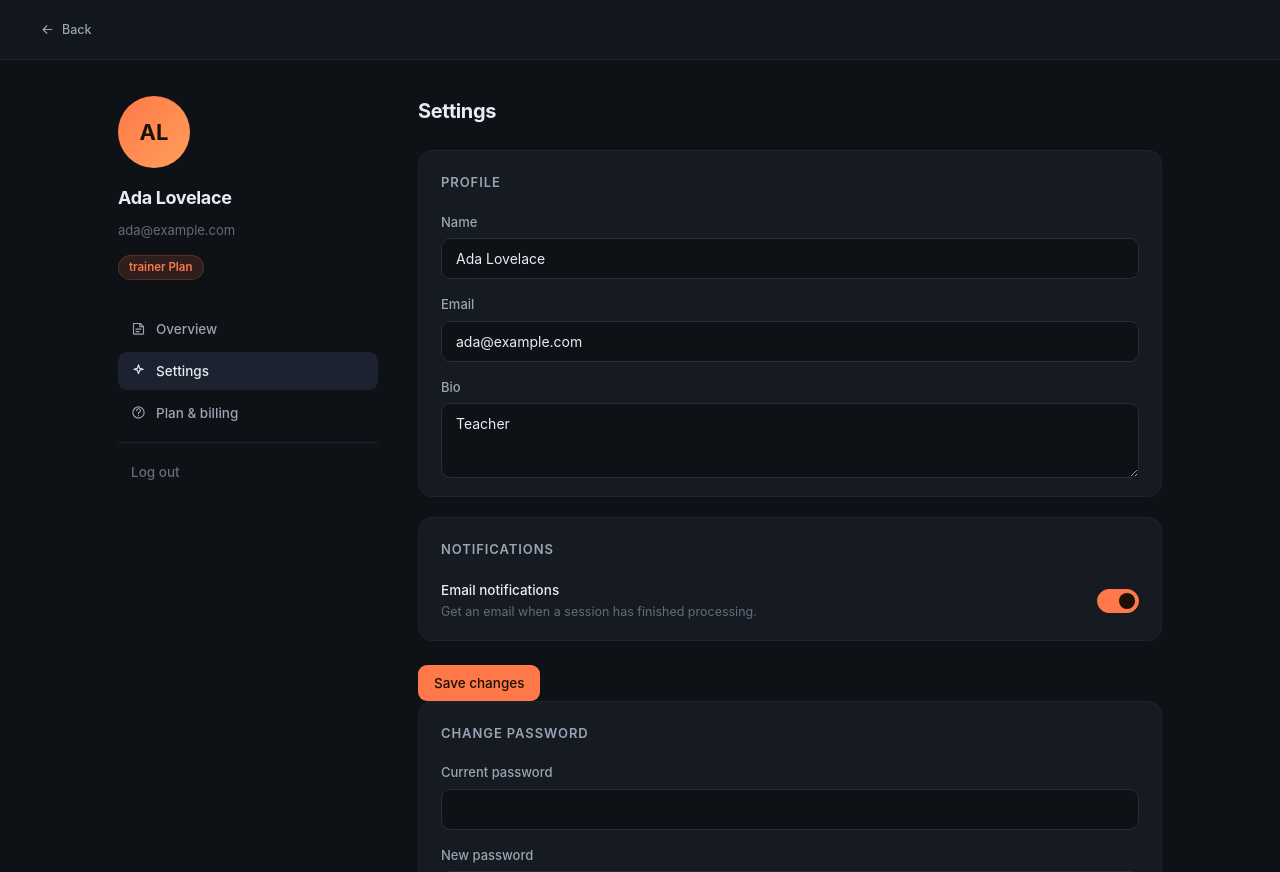
Test: Profile settings › saves profile changes
This screenshot has width=1280, height=872.
Replace the text in the field labelled "Name" with "Ada King" at [790, 258], box [441,238,1139,279]
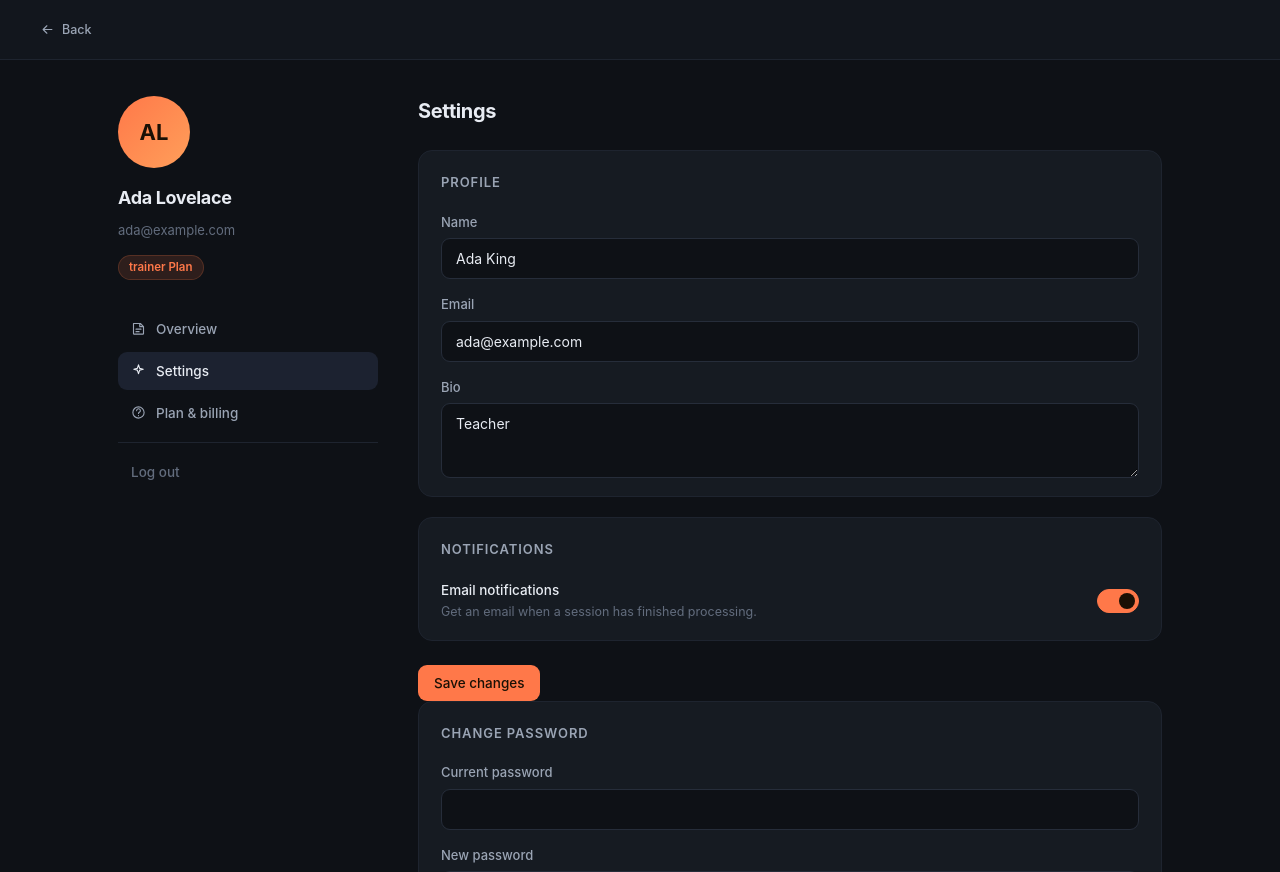
Click the switch named "Email notifications".
click(1118, 600)  # box [1097,588,1139,612]
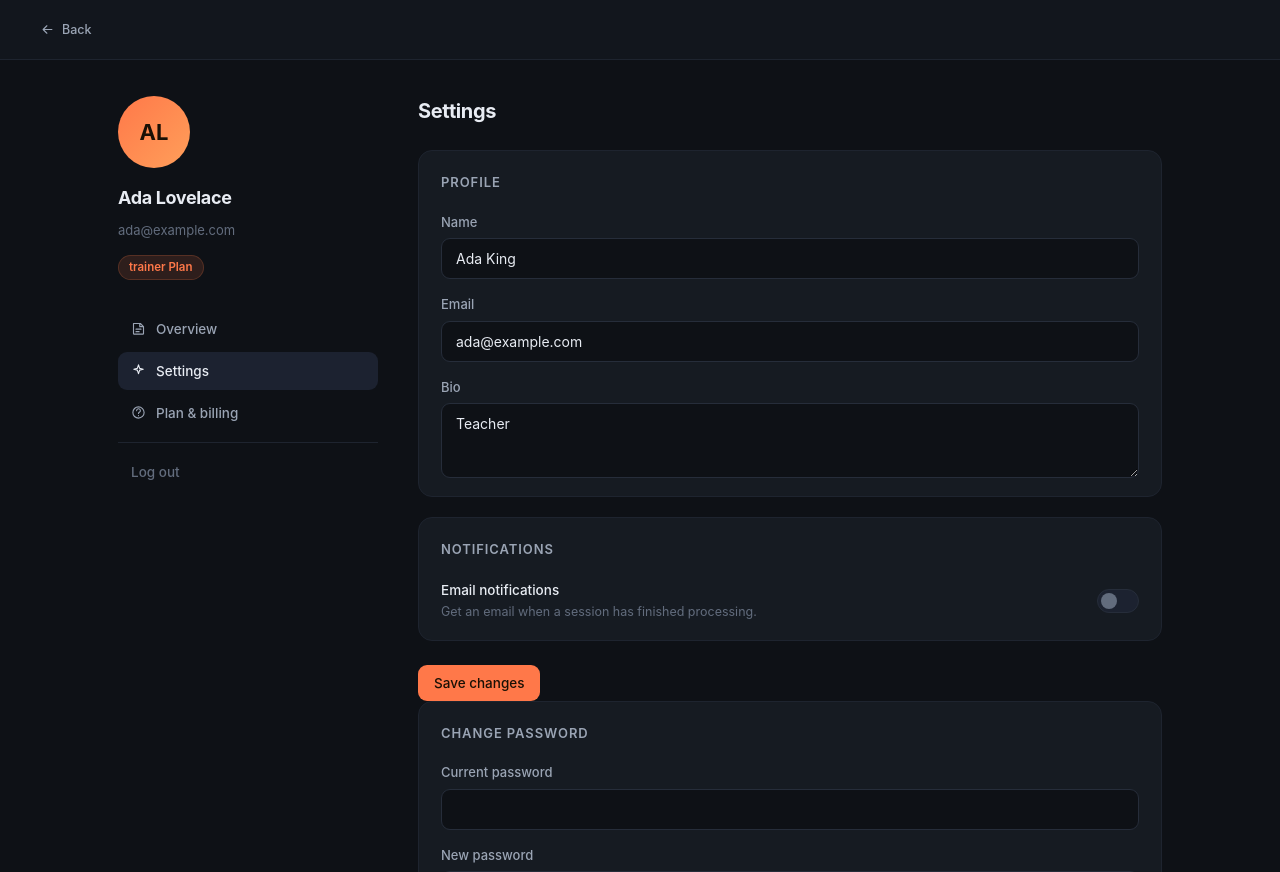
Click the button "Save changes".
click(479, 682)  # box [418,664,540,700]
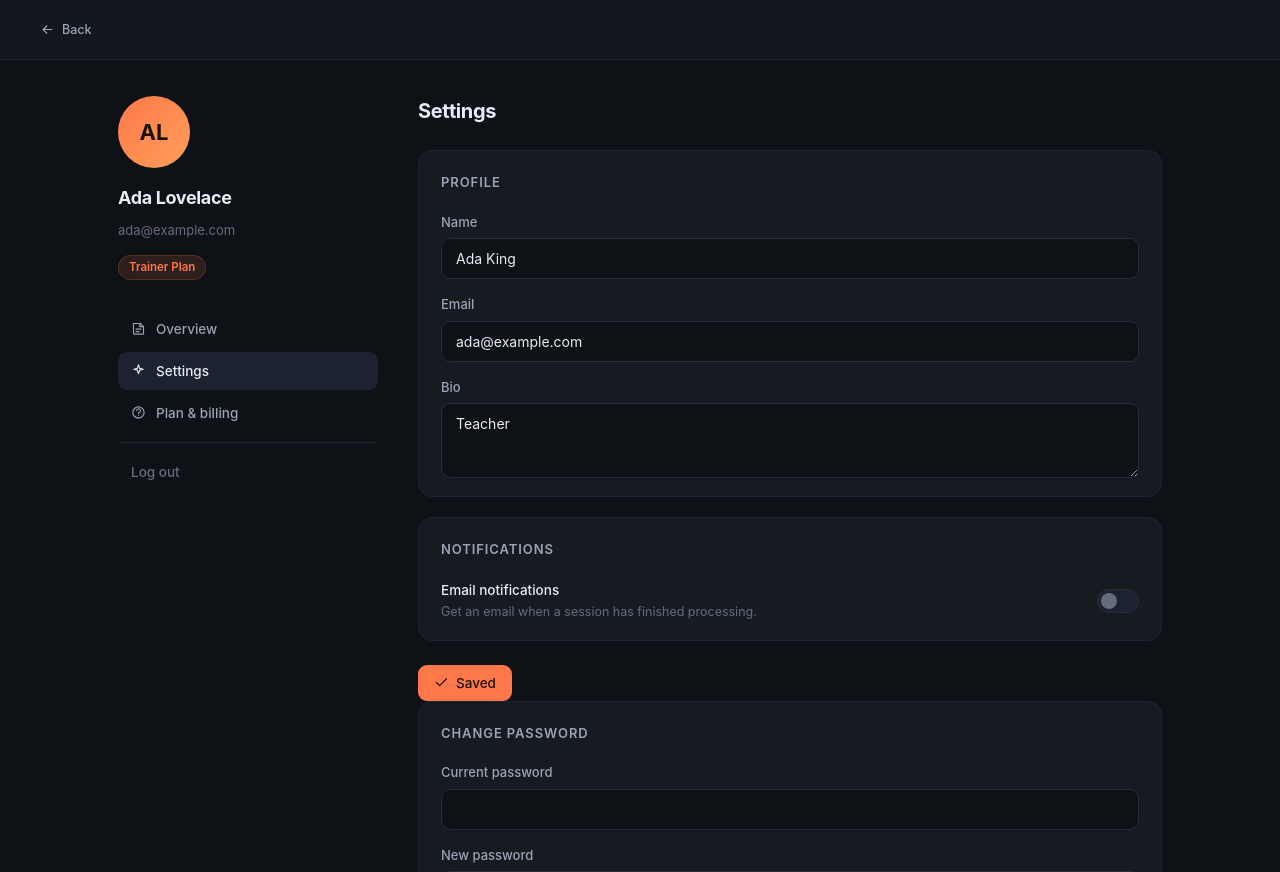
Expected: the button "Saved" is shown, [418,664,512,700]
